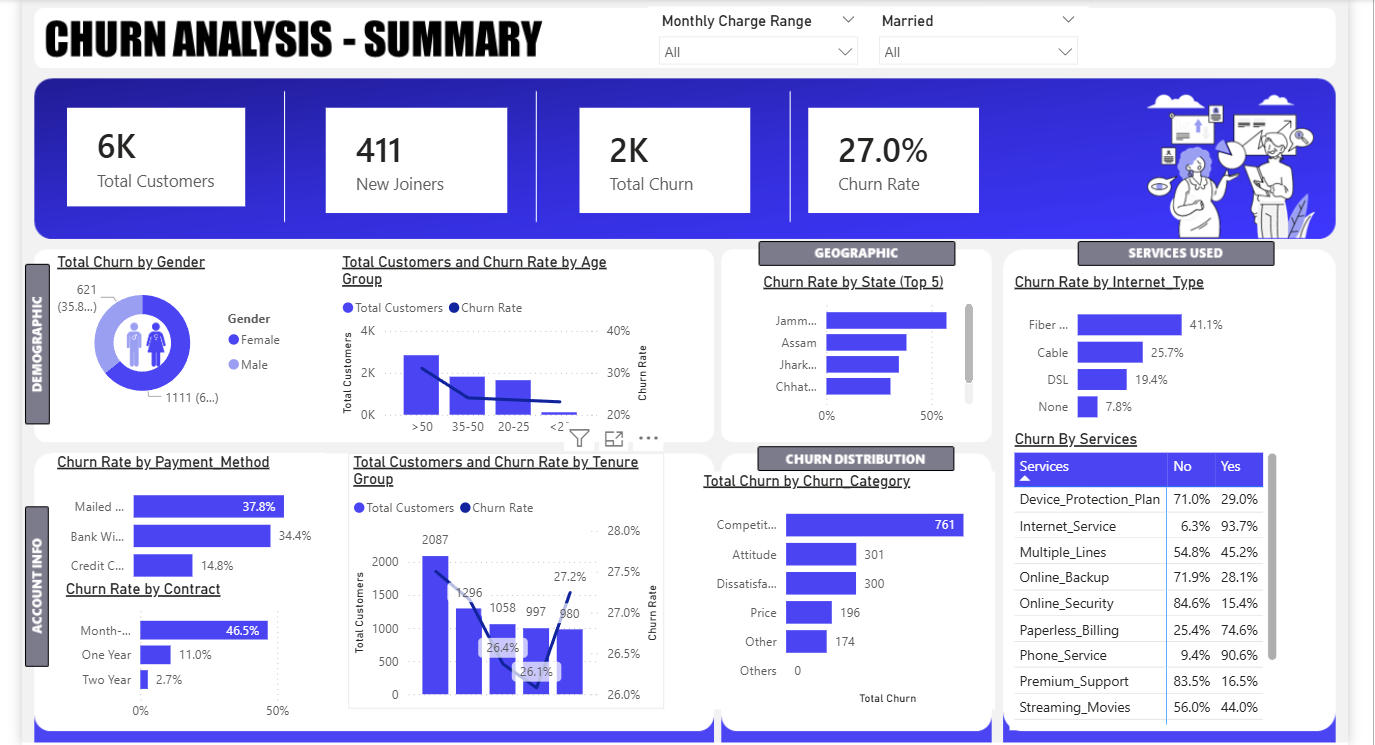

The page's visual inventory and layout, read from the dashboard file:
{"tool":"powerbi","page":{"name":"Summary","canvas":[1280,720],"ordinal":0},"visuals":[{"type":"image","box":[73.7,305.1,92.5,54.9],"z":0},{"type":"donutChart","fields":{"Category":["prod_Churn.Gender"],"Y":["tbl_meaasures.Total Churn"]},"box":[28.9,244.4,235.7,157.6],"z":1000},{"type":"lineStackedColumnComboChart","fields":{"Category":["mapping_AgeGrp.Age Group"],"Y":["tbl_meaasures.Total Customers"],"Y2":["tbl_meaasures.Churn Rate"]},"box":[303.7,244.4,306.6,186.5],"z":2000},{"type":"clusteredBarChart","fields":{"Category":["prod_Churn.Payment_Method"],"Y":["tbl_meaasures.Churn Rate"]},"box":[28.9,438.1,263.2,137.4],"z":3000},{"type":"clusteredBarChart","fields":{"Category":["prod_Churn.Contract"],"Y":["tbl_meaasures.Churn Rate"]},"box":[37.6,561.1,255.9,144.6],"z":4000},{"type":"lineStackedColumnComboChart","fields":{"Category":["mapping_TenureGrp.Tenure Group"],"Y":["tbl_meaasures.Total Customers"],"Y2":["tbl_meaasures.Churn Rate"]},"box":[315.2,438.1,305.1,247.3],"z":5000},{"type":"clusteredBarChart","title":"Churn Rate by State (Top 5)","fields":{"Category":["prod_Churn.State"],"Y":["tbl_meaasures.Churn Rate"]},"box":[710,264.6,212.6,156.2],"z":6000},{"type":"clusteredBarChart","fields":{"Category":["prod_Churn.Churn_Category"],"Y":["tbl_meaasures.Total Churn"]},"box":[652.2,455.5,286.3,229.9],"z":7000},{"type":"clusteredBarChart","fields":{"Category":["prod_Churn.Internet_Type"],"Y":["tbl_meaasures.Churn Rate"]},"box":[952.9,264.6,212.6,156.2],"z":8000},{"type":"pivotTable","title":"Churn By Services","fields":{"Rows":["prod_Services.Services"],"Columns":["prod_Services.Status"],"Values":["Sum(prod_Services.Churn Status)"]},"box":[952.9,416.5,263.2,289.2],"z":9000},{"type":"slicer","fields":{"Values":["prod_Churn.Monthly Charge Status"]},"box":[604.4,7.2,212.6,59.3],"z":10000},{"type":"slicer","fields":{"Values":["prod_Churn.Married"]},"box":[817,7.2,212.6,59.3],"z":11000},{"type":"cardVisual","fields":{"Data":["tbl_meaasures.Total Customers"]},"box":[43.4,105.6,172.1,95.4],"z":12000},{"type":"cardVisual","fields":{"Data":["tbl_meaasures.New Joiners"]},"box":[293.5,105.6,175,101.2],"z":13000},{"type":"cardVisual","fields":{"Data":["tbl_meaasures.Total Churn"]},"box":[537.9,105.6,164.8,101.2],"z":14000},{"type":"cardVisual","fields":{"Data":["tbl_meaasures.Churn Rate"]},"box":[759.2,105.6,164.8,101.2],"z":15000}]}

Visuals, with their boxes on the page's 1280x720 design canvas (x1, y1, x2, y2). These are canvas units, not pixel positions in the 1375x745 screenshot, which may show the page scaled, cropped or inside an application window:
image: x1=74 y1=305 x2=166 y2=360
donutChart - prod_Churn.Gender x tbl_meaasures.Total Churn: x1=29 y1=244 x2=265 y2=402
lineStackedColumnComboChart - mapping_AgeGrp.Age Group x tbl_meaasures.Total Customers: x1=304 y1=244 x2=610 y2=431
clusteredBarChart - prod_Churn.Payment_Method x tbl_meaasures.Churn Rate: x1=29 y1=438 x2=292 y2=576
clusteredBarChart - prod_Churn.Contract x tbl_meaasures.Churn Rate: x1=38 y1=561 x2=294 y2=706
lineStackedColumnComboChart - mapping_TenureGrp.Tenure Group x tbl_meaasures.Total Customers: x1=315 y1=438 x2=620 y2=685
"Churn Rate by State (Top 5)" clusteredBarChart: x1=710 y1=265 x2=923 y2=421
clusteredBarChart - prod_Churn.Churn_Category x tbl_meaasures.Total Churn: x1=652 y1=456 x2=938 y2=685
clusteredBarChart - prod_Churn.Internet_Type x tbl_meaasures.Churn Rate: x1=953 y1=265 x2=1166 y2=421
"Churn By Services" pivotTable: x1=953 y1=416 x2=1216 y2=706
slicer - prod_Churn.Monthly Charge Status: x1=604 y1=7 x2=817 y2=66
slicer - prod_Churn.Married: x1=817 y1=7 x2=1030 y2=66
cardVisual - tbl_meaasures.Total Customers: x1=43 y1=106 x2=216 y2=201
cardVisual - tbl_meaasures.New Joiners: x1=294 y1=106 x2=468 y2=207
cardVisual - tbl_meaasures.Total Churn: x1=538 y1=106 x2=703 y2=207
cardVisual - tbl_meaasures.Churn Rate: x1=759 y1=106 x2=924 y2=207
